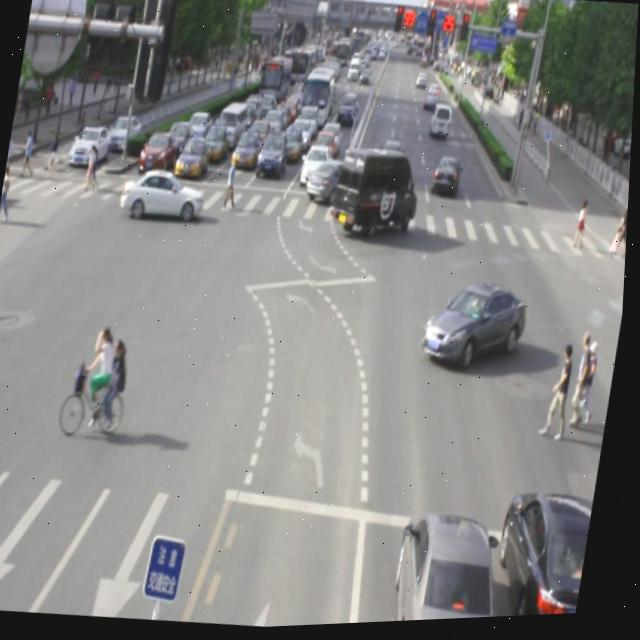car: (489, 492, 599, 622), (392, 510, 512, 625), (422, 278, 533, 375), (118, 163, 210, 230), (307, 159, 359, 207)
truck: (333, 147, 426, 238)
